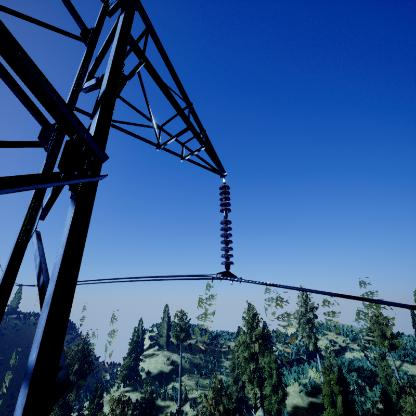insulator: (217, 183, 238, 272)
